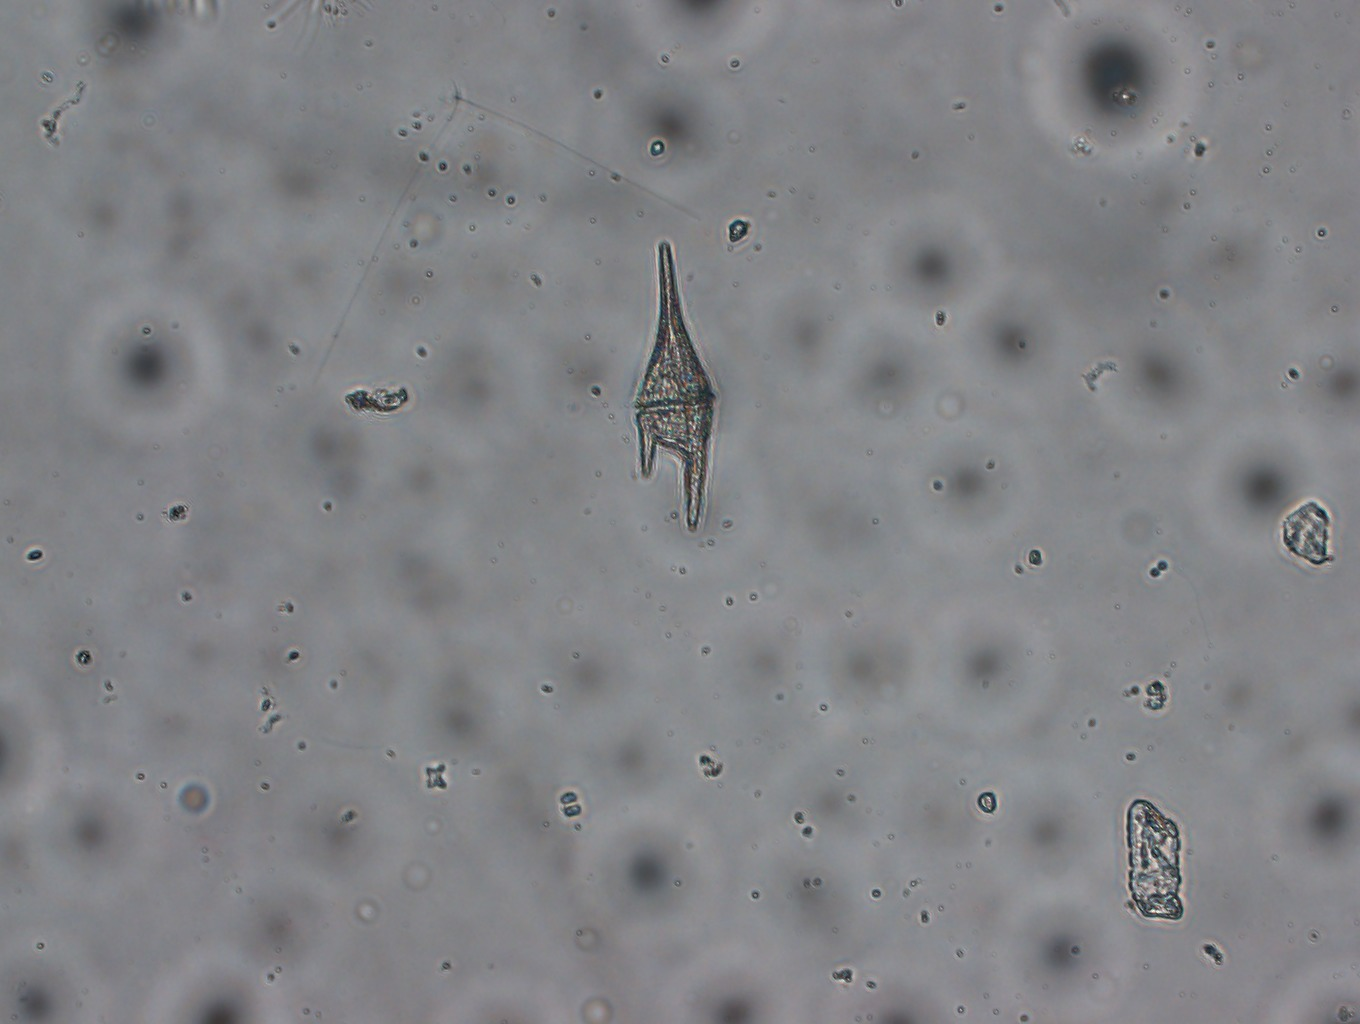ceratium furca: (628, 232, 725, 536)
